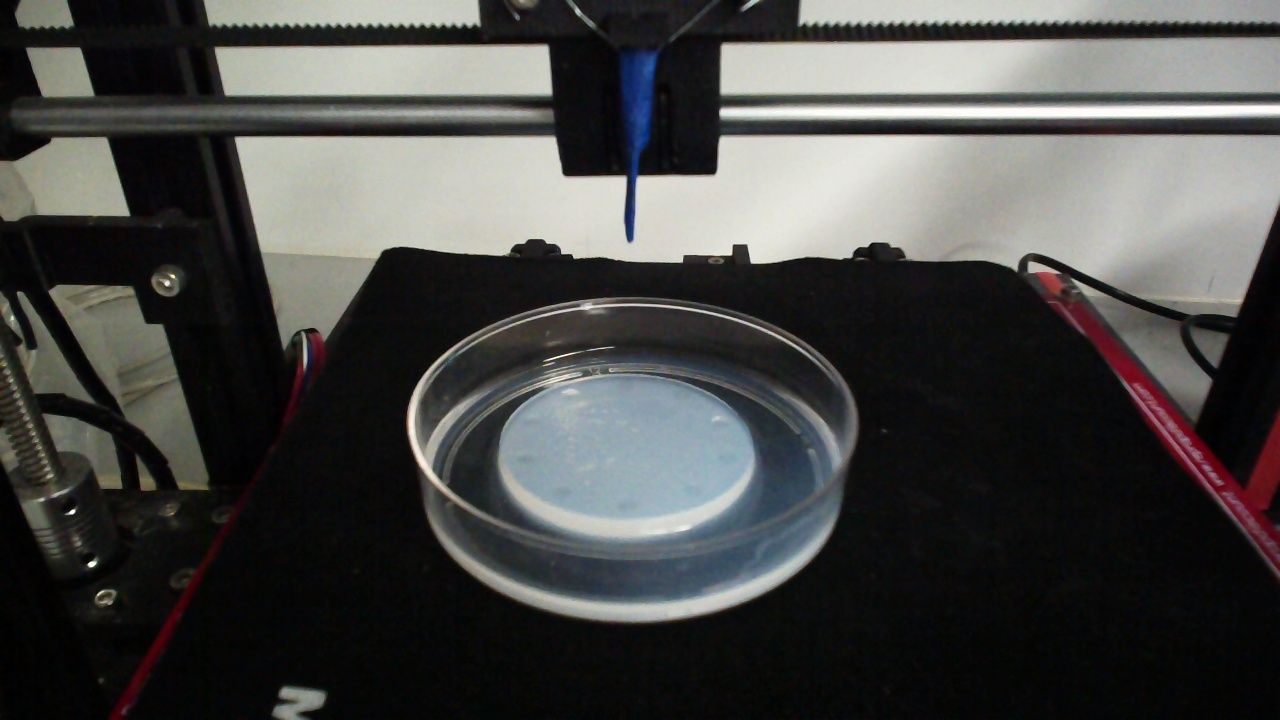groove: (716, 448, 740, 467), (518, 412, 544, 428), (615, 498, 641, 514), (681, 483, 702, 500), (550, 486, 572, 502), (612, 379, 637, 393), (669, 387, 692, 402), (709, 414, 731, 429), (513, 451, 534, 465), (559, 387, 580, 400)
needle: (619, 48, 655, 244)
